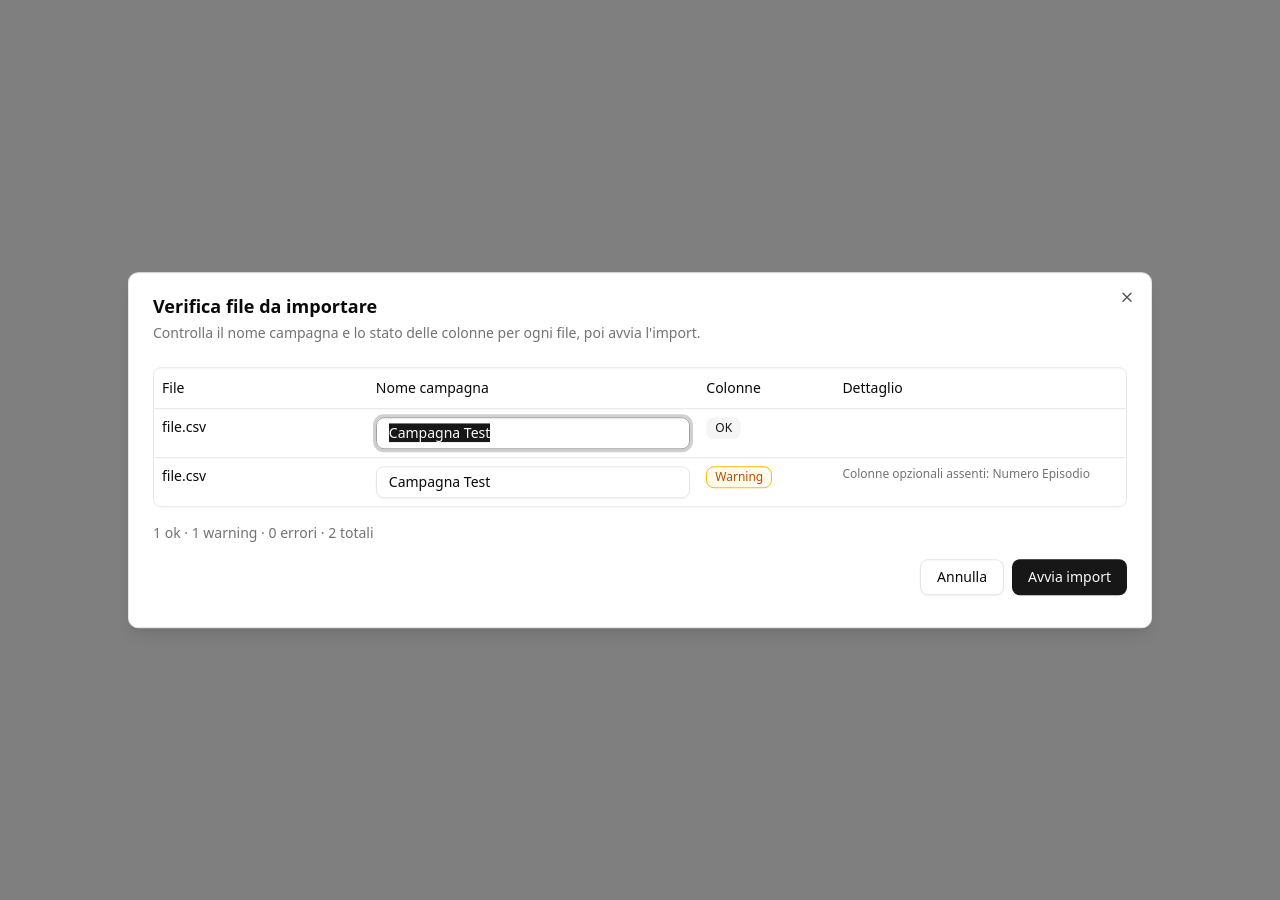
Test: BulkImportProgrammazioniDialog › shows conferma unica when starting with warning_safe rows
Later steps or results of the test are not shown.
Click the button "Avvia import": (1070, 577) [1012,559,1127,595]
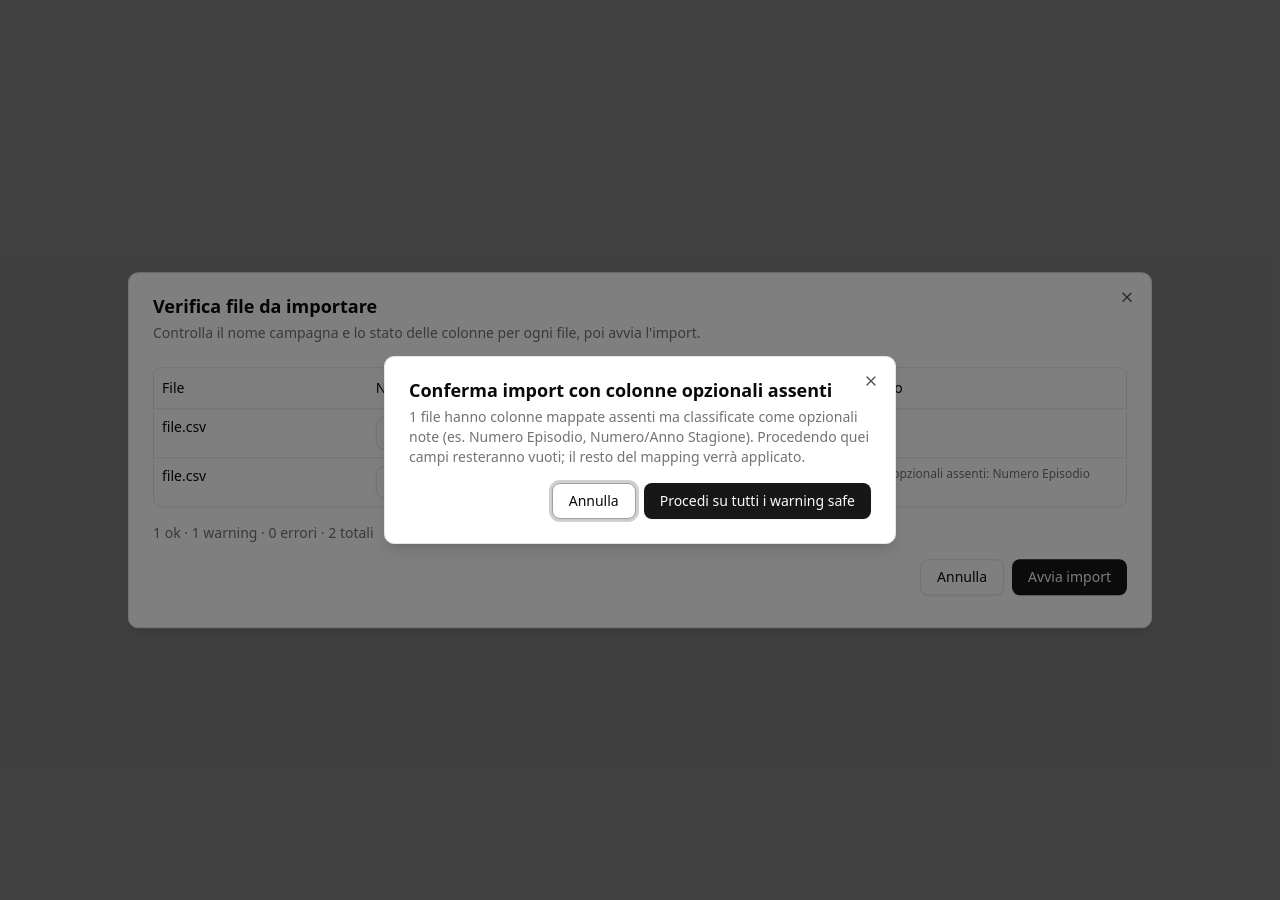
Result: the text "colonne mappate assenti ma classificate come opzionali note" is shown at [409,407,869,466]
